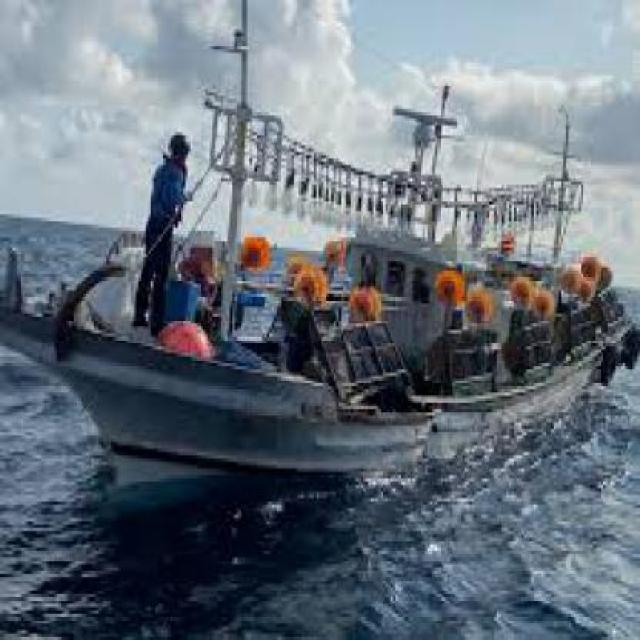fish-b: (1, 4, 639, 507)
